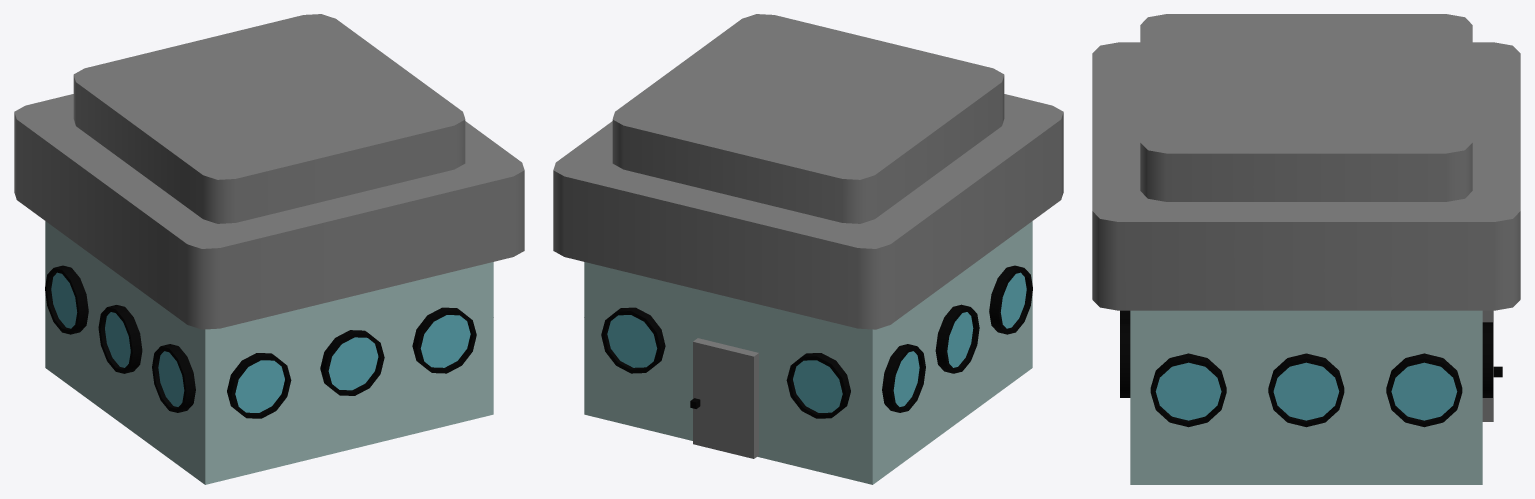
Rendered from House24.fbx.
3 renders of one model, left to right at view 1: azimuth 30°, elevation 25°; view 2: azimuth 150°, elevation 25°; view 3: azimuth 270°, elevation 25°, orthographic. The views are drawn at different scales.
Parts seen in each view (by area): view 1: House.024; view 2: House.024; view 3: House.024.
Part boxes in pixels (box(x1,y1,x2,y2)): House.024: box(14, 14, 524, 484); House.024: box(553, 14, 1063, 484); House.024: box(1092, 14, 1520, 484).
Size of the model in its own units: 746 by 626 by 750.
